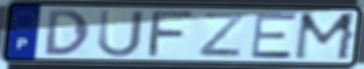D: (44, 9, 92, 57)
E: (249, 12, 299, 60)
F: (144, 10, 199, 59)
M: (291, 11, 360, 62)
U: (95, 8, 146, 59)
Z: (197, 11, 247, 59)
